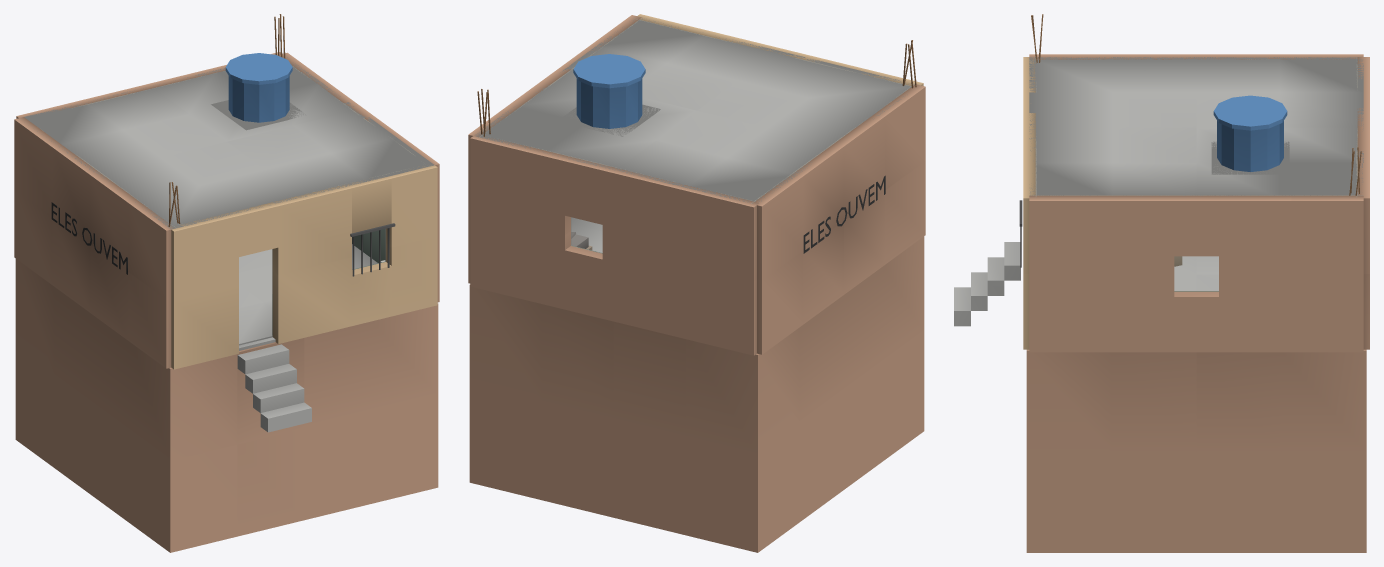
File: barraco_5.glb
3 views of the same model, side by side, from view 1: azimuth 30°, elevation 25°; view 2: azimuth 150°, elevation 25°; view 3: azimuth 270°, elevation 25° (orthographic). The views are drawn at different scales.
Parts seen in each view (by area): view 1: longe, ext, detalhe, dentro; view 2: longe, ext, detalhe, dentro; view 3: longe, ext, detalhe, dentro.
Part boxes in pixels (x1,y1,x2,y2): longe: [15, 57, 438, 552]; ext: [14, 52, 439, 369]; detalhe: [51, 14, 395, 432]; dentro: [42, 66, 428, 350]; longe: [469, 18, 924, 552]; ext: [468, 14, 925, 355]; detalhe: [477, 40, 916, 253]; dentro: [479, 18, 914, 253]; longe: [1026, 57, 1366, 552]; ext: [1023, 54, 1369, 352]; detalhe: [954, 14, 1361, 326]; dentro: [1030, 58, 1363, 291].
Size of what is drawn, in the model's own units: 6.23 by 7.93 by 7.46.
